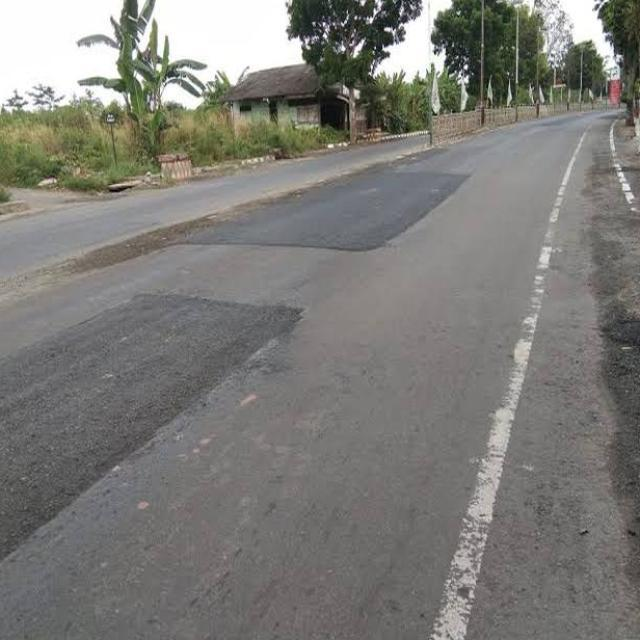Sambungan: (0, 290, 310, 567), (197, 172, 470, 253)
